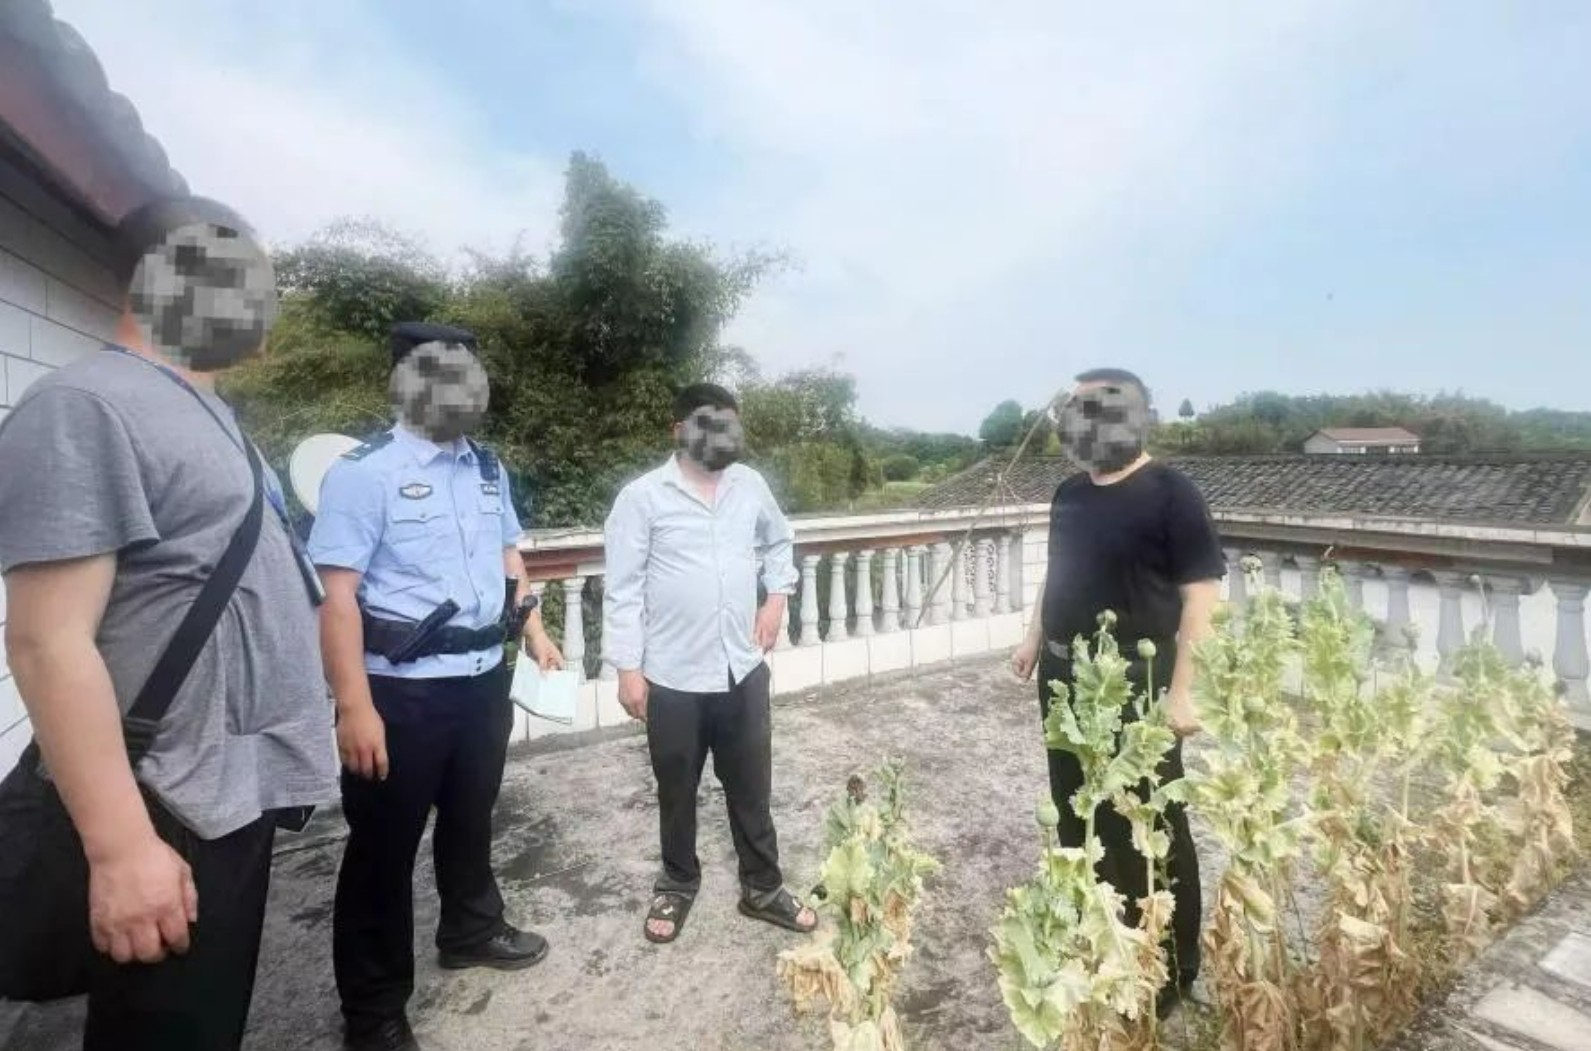Poppy: (1187, 557, 1580, 1030), (964, 599, 1190, 1040), (774, 733, 951, 1047)
